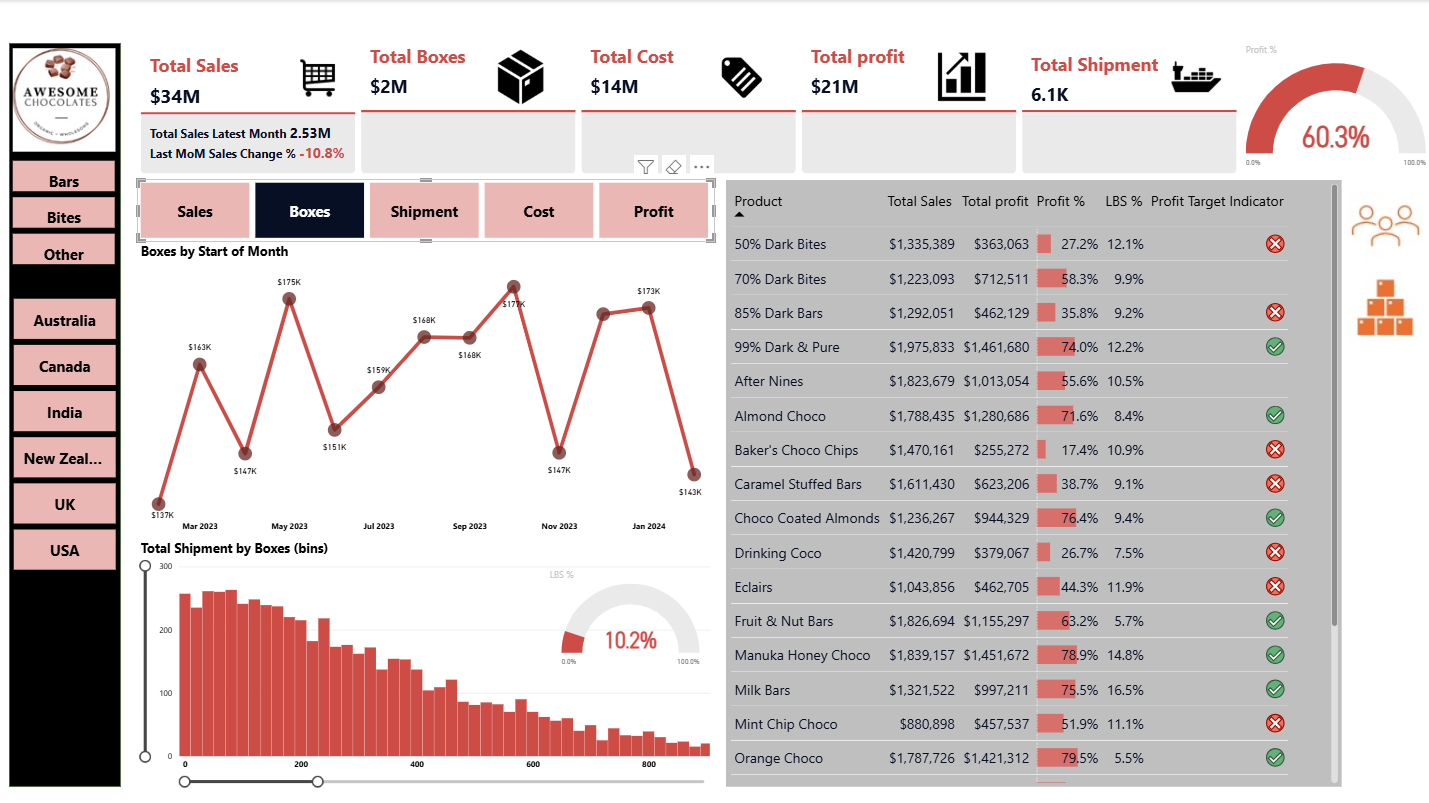

Layout of this report page (visuals, bound fields, positions):
{"tool":"powerbi","page":{"name":"Sales Report","canvas":[1920,1080],"ordinal":2},"visuals":[{"type":"shape","box":[12.1,57.8,150.4,999.4],"z":0},{"type":"cardVisual","fields":{"Data":["Measures Table.Total Sales","Measures Table.Total Boxes","Measures Table.Total Cost","Measures Table.Total profit","Measures Table.Total Shipment"]},"box":[183.6,57.6,1484.3,180.5],"z":1000},{"type":"gauge","fields":{"Y":["Measures Table.Profit %"]},"box":[1667.9,57.6,252.1,180.5],"z":2000},{"type":"lineChart","fields":{"Y":["Measures Table.Total Boxes"],"Category":["calendar.Start of Month"]},"box":[184.4,324.8,776.5,399.2],"z":3000},{"type":"advancedSlicerVisual","fields":{"Values":["Measure Selector.Measure Selector"]},"box":[184.4,240.2,776.5,84.6],"z":4000},{"type":"columnChart","fields":{"Y":["Measures Table.Total Shipment"],"Category":["shipments.Boxes (bins)"]},"box":[184.4,724,776.5,336.6],"z":5000},{"type":"gauge","fields":{"Y":["Measures Table.LBS %"]},"box":[733.4,763,227,139.7],"z":6000},{"type":"image","box":[12.1,57.8,147.8,153.1],"z":7000},{"type":"tableEx","title":"Product details","fields":{"Values":["products.Product","Measures Table.Total Sales","Measures Table.Total profit","Measures Table.Profit %","Measures Table.LBS %","Measures Table.Profit Target Indicator"]},"box":[975.2,241.8,827.5,815.4],"z":9000},{"type":"image","title":"Product Icon","box":[1803.3,360.3,116.7,104.7],"z":10000},{"type":"image","title":"People Icon","box":[1803.3,247.5,116.7,112.7],"z":11000},{"type":"advancedSlicerVisual","fields":{"Values":["products.Category"]},"box":[12.1,210.9,147.8,150.4],"z":12000},{"type":"advancedSlicerVisual","fields":{"Values":["locations.Geo"]},"box":[13.4,396.3,147.8,378.8],"z":12001}]}

Visuals, with their boxes in screenshot pixels (x1, y1, x2, y2), scaled from the page's 1920x1080 canvas onto the 1429x803 screenshot:
shape: pyautogui.locateOnScreen(9, 43, 121, 786)
cardVisual - Measures Table.Total Sales x Measures Table.Total Boxes: pyautogui.locateOnScreen(137, 43, 1241, 177)
gauge - Measures Table.Profit %: pyautogui.locateOnScreen(1241, 43, 1428, 177)
lineChart - Measures Table.Total Boxes x calendar.Start of Month: pyautogui.locateOnScreen(137, 241, 715, 538)
advancedSlicerVisual - Measure Selector.Measure Selector: pyautogui.locateOnScreen(137, 179, 715, 241)
columnChart - Measures Table.Total Shipment x shipments.Boxes (bins): pyautogui.locateOnScreen(137, 538, 715, 789)
gauge - Measures Table.LBS %: pyautogui.locateOnScreen(546, 567, 715, 671)
image: pyautogui.locateOnScreen(9, 43, 119, 157)
"Product details" tableEx: pyautogui.locateOnScreen(726, 180, 1342, 786)
"Product Icon" image: pyautogui.locateOnScreen(1342, 268, 1428, 346)
"People Icon" image: pyautogui.locateOnScreen(1342, 184, 1428, 268)
advancedSlicerVisual - products.Category: pyautogui.locateOnScreen(9, 157, 119, 269)
advancedSlicerVisual - locations.Geo: pyautogui.locateOnScreen(10, 295, 120, 576)
